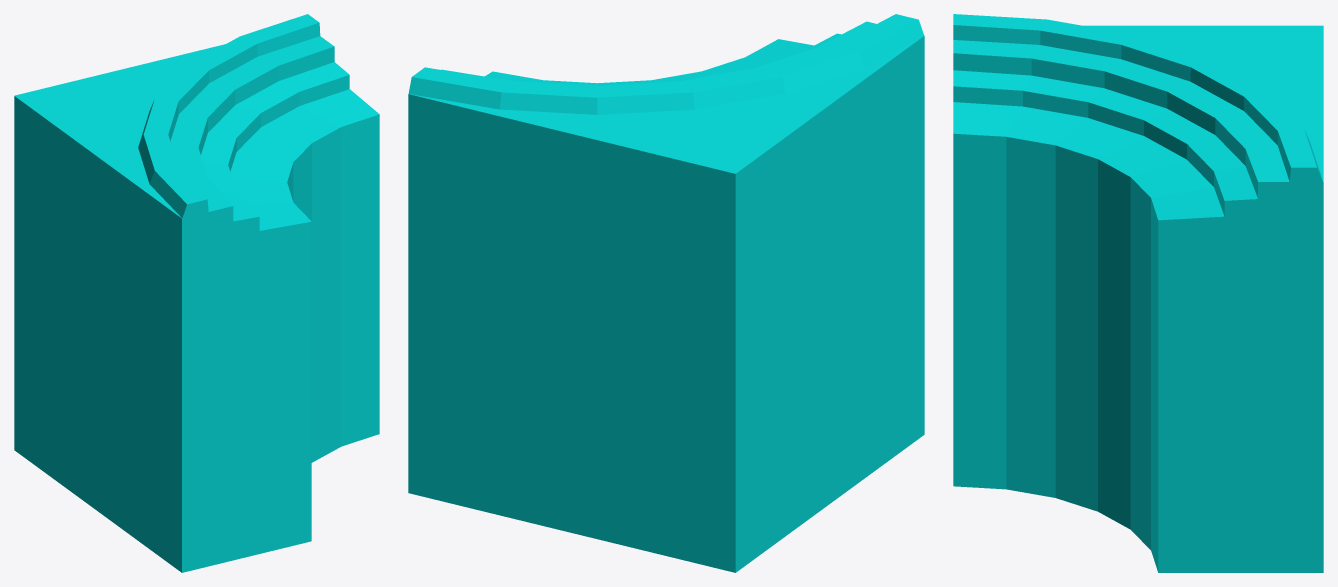
File: SM_Bld_Shrine_Corner_In_01_Collision.fbx
3 views of the same model, side by side, from view 1: azimuth 30°, elevation 25°; view 2: azimuth 150°, elevation 25°; view 3: azimuth 270°, elevation 25° (orthographic). The views are drawn at different scales.
Parts seen in each view (by area): view 1: SM_Bld_Shrine_Corner_In_01_Collision; view 2: SM_Bld_Shrine_Corner_In_01_Collision; view 3: SM_Bld_Shrine_Corner_In_01_Collision.
Part boxes in pixels (x1,y1,x2,y2): SM_Bld_Shrine_Corner_In_01_Collision: (14, 14, 379, 572); SM_Bld_Shrine_Corner_In_01_Collision: (408, 14, 924, 572); SM_Bld_Shrine_Corner_In_01_Collision: (953, 14, 1323, 572).
Size of the model in its own units: 500 by 604 by 500.
